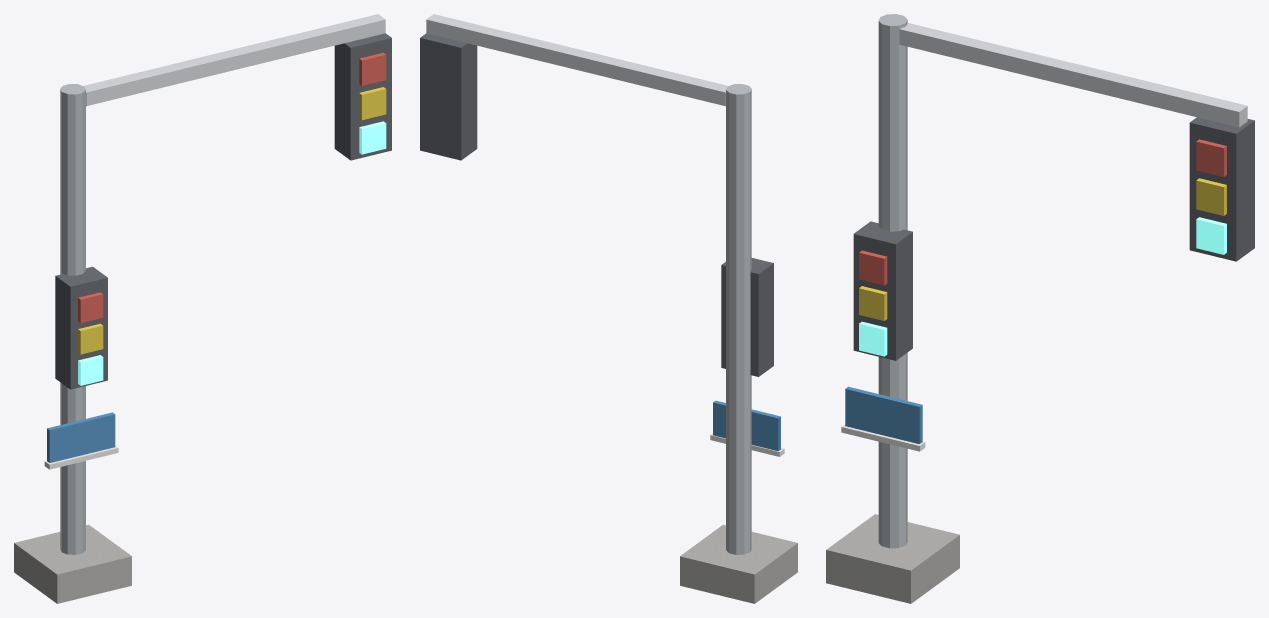
The model's file is traffic-signal.glb.
3 views of the same model, side by side, from view 1: azimuth 30°, elevation 25°; view 2: azimuth 150°, elevation 25°; view 3: azimuth 330°, elevation 25° (orthographic). The views are drawn at different scales.
Parts seen in each view (by area): view 1: ferry-terminal-and-harbour-crossing-traffic-light-gantry; view 2: ferry-terminal-and-harbour-crossing-traffic-light-gantry; view 3: ferry-terminal-and-harbour-crossing-traffic-light-gantry.
Boxes of the visible parts, x1,y1,x2,y2 form: ferry-terminal-and-harbour-crossing-traffic-light-gantry: (14,14,391,603); ferry-terminal-and-harbour-crossing-traffic-light-gantry: (420,14,797,603); ferry-terminal-and-harbour-crossing-traffic-light-gantry: (826,14,1254,603).
Size of the model in its own units: 3.72 by 5 by 0.8.
Materials: 9 (1 with a texture image).
